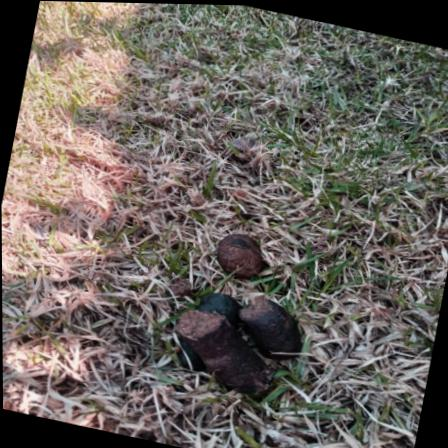dog-poop: (148, 214, 330, 410)
